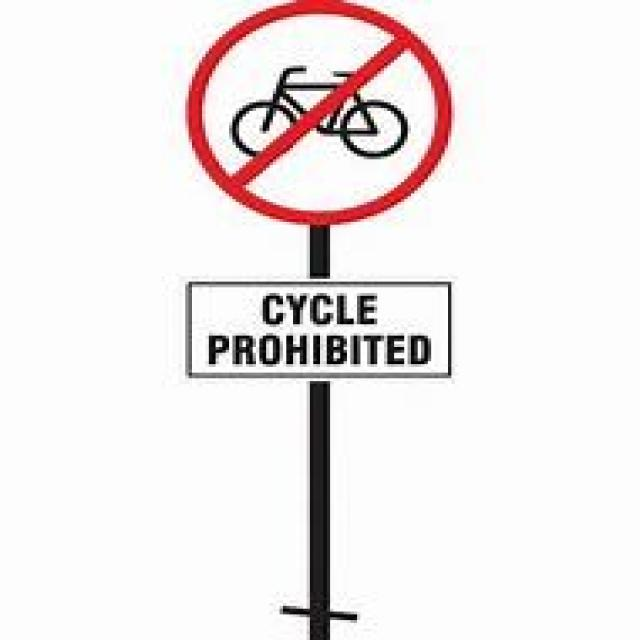CYCLE_PROHIBITED: (182, 0, 451, 222)
